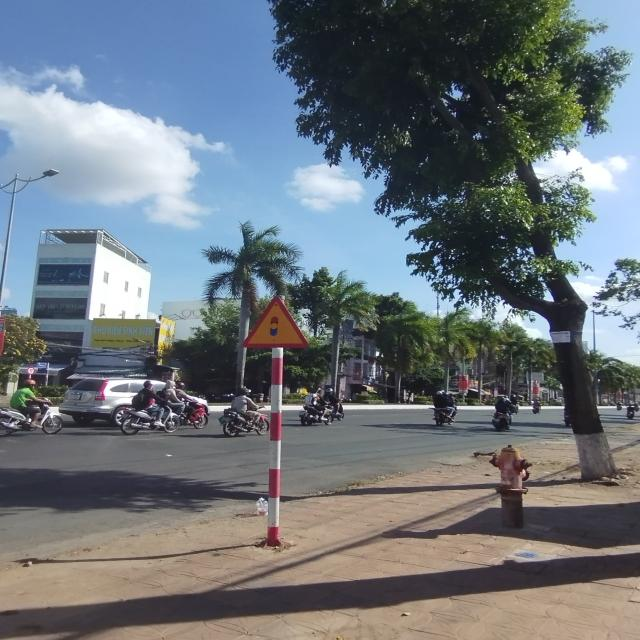Duong_Co_Go_Giam_Toc: (242, 295, 309, 348)
